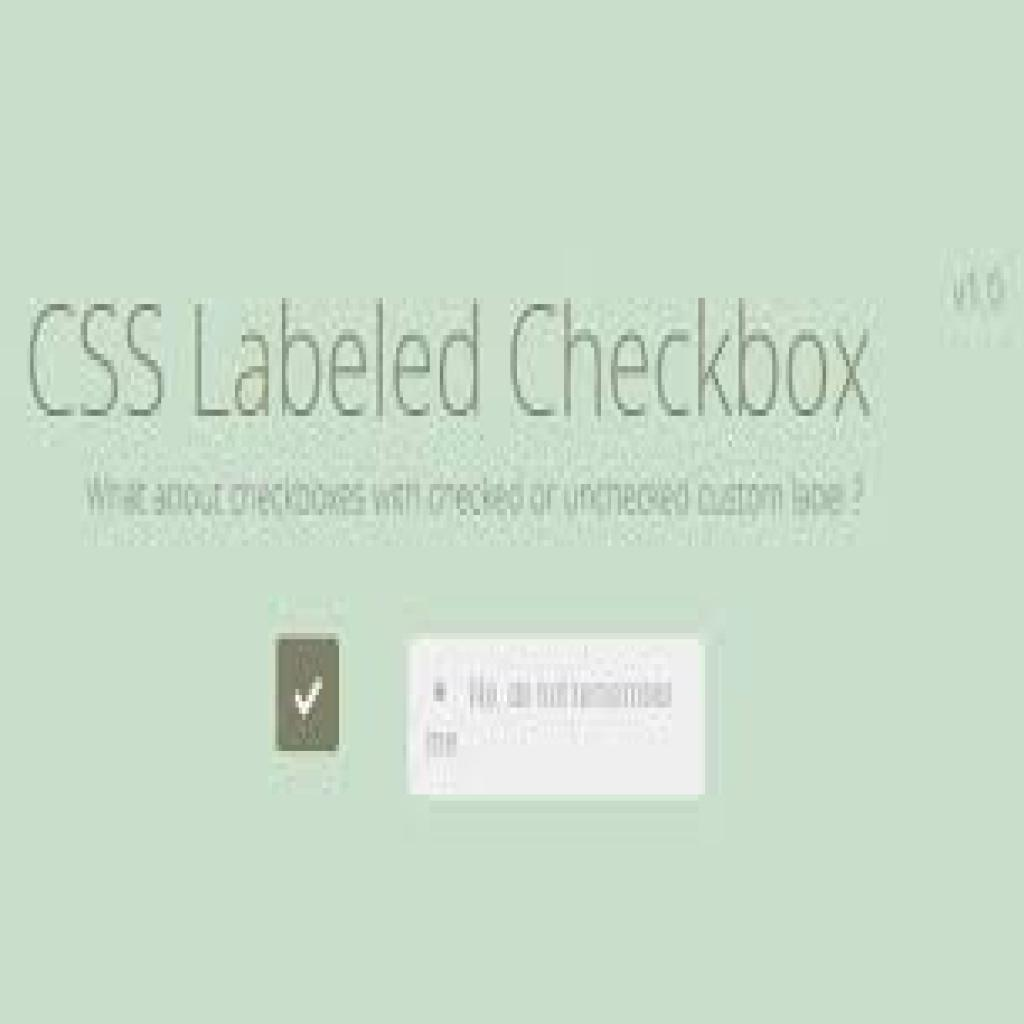checkbox: (277, 638, 341, 747)
